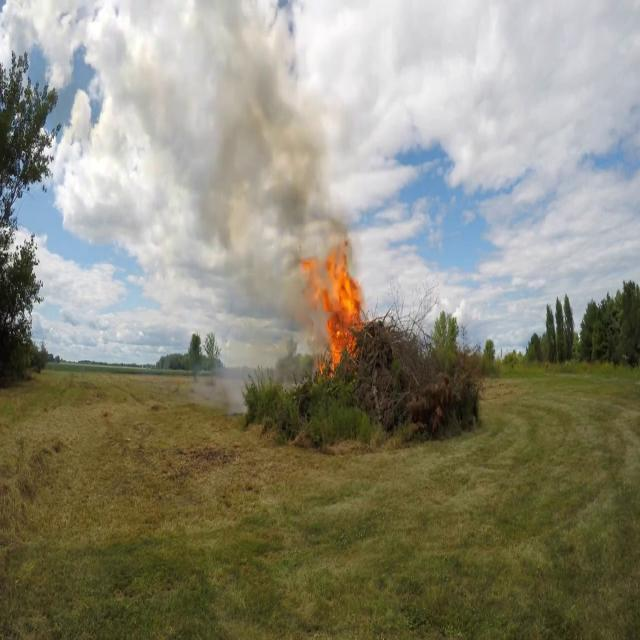Fire: (306, 245, 372, 378)
Smoke: (182, 5, 354, 280)
